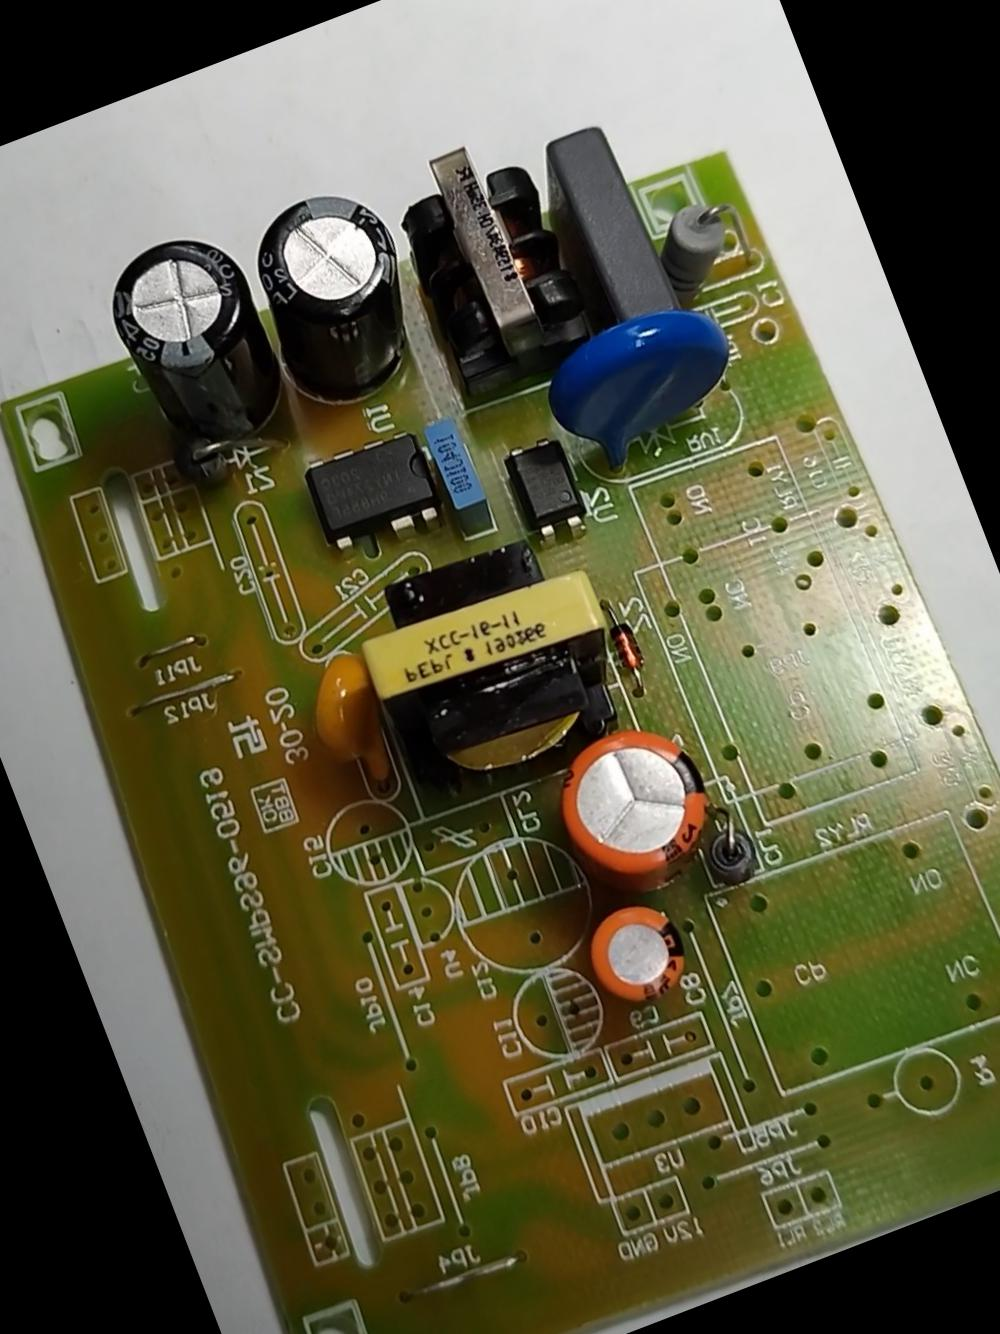Cap1: (539, 703, 738, 917)
Cap2: (572, 890, 697, 1019)
Cap3: (229, 171, 437, 417)
Cap4: (95, 218, 295, 460)
MOSFET: (295, 420, 450, 558)
Mov: (525, 288, 749, 480)
Resistor: (643, 187, 748, 297)
Transformer: (335, 516, 641, 812), (381, 122, 596, 385)
